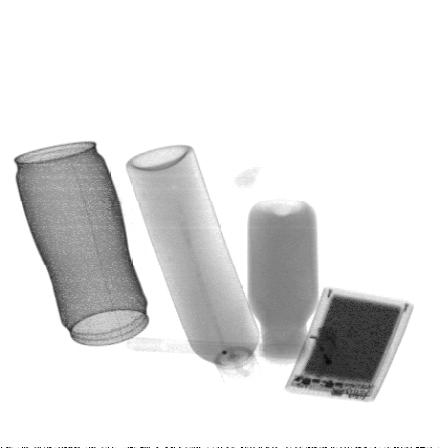Lighter: (307, 325, 362, 399)
Powerbank: (285, 286, 414, 405)
Sprayer: (125, 144, 262, 388)
